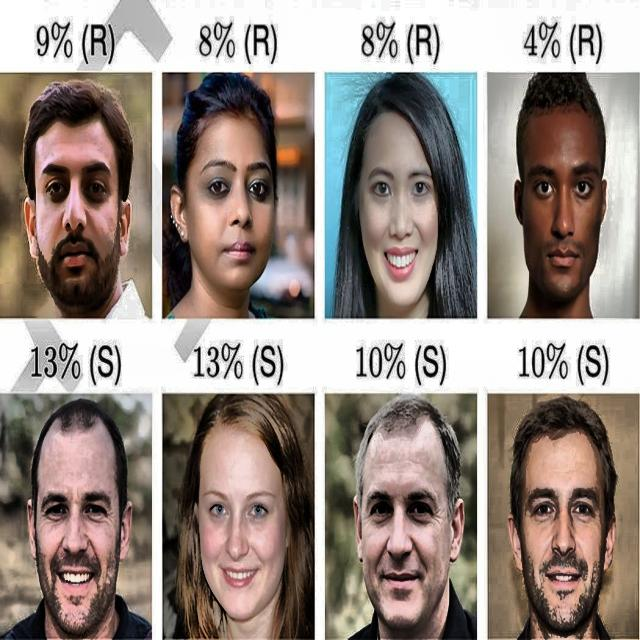Human: (324, 84, 476, 338), (489, 395, 640, 640), (160, 403, 315, 640), (330, 399, 476, 640), (0, 395, 148, 626), (14, 86, 151, 327), (496, 85, 626, 338), (168, 92, 290, 328)
